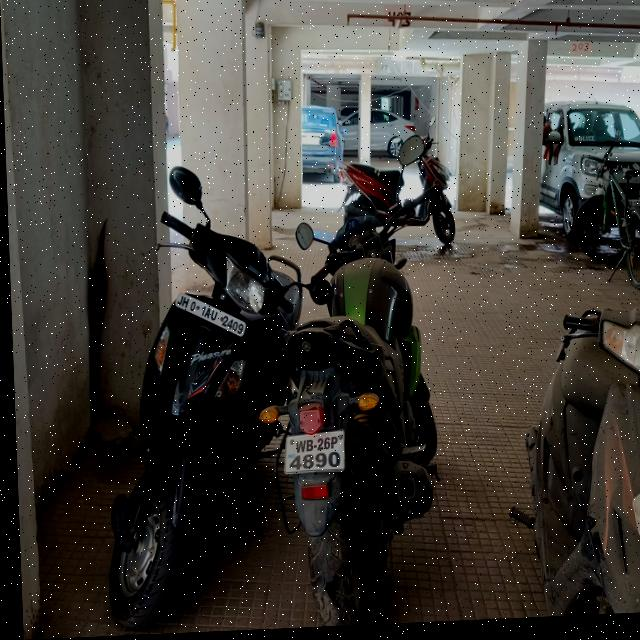bike: (84, 145, 310, 637), (273, 133, 455, 630), (494, 266, 640, 623), (337, 139, 472, 267)
car: (536, 97, 640, 244), (301, 95, 347, 192), (343, 108, 417, 167)
